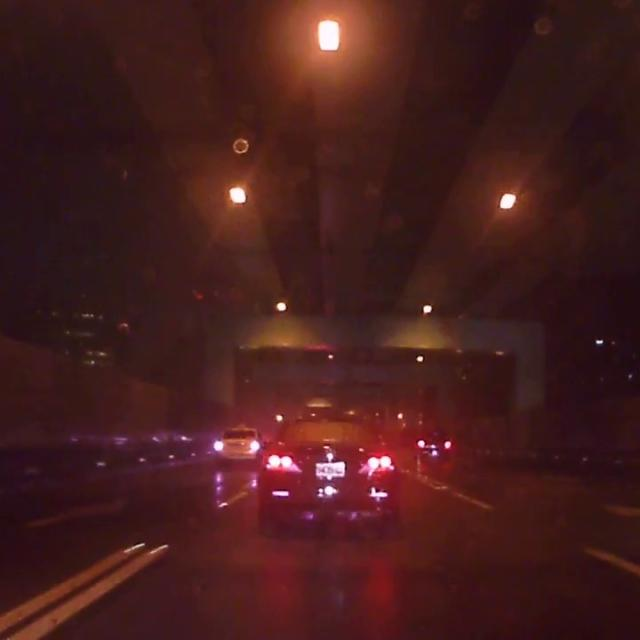Car: (255, 409, 402, 520), (210, 413, 258, 465), (411, 427, 453, 458)
